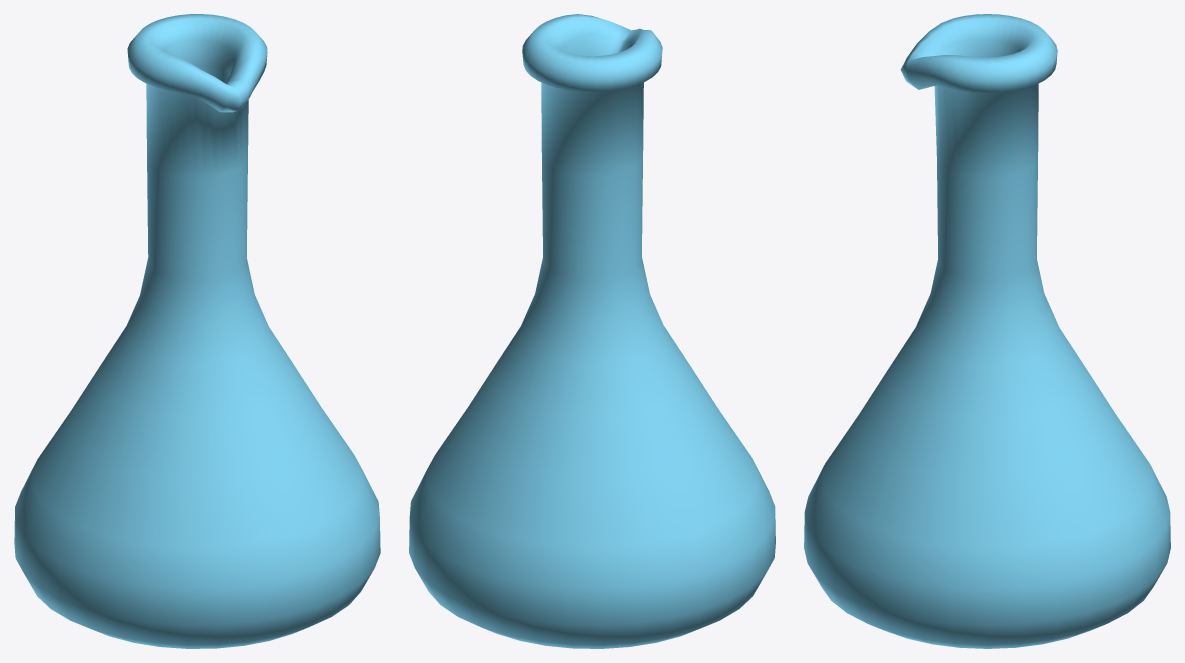
The model's file is Flask, Erlenmeyer, Long Neck, Spout.fbx.
3 renders of one model, left to right at view 1: azimuth 30°, elevation 25°; view 2: azimuth 150°, elevation 25°; view 3: azimuth 270°, elevation 25°, orthographic.
Visible parts, largest first — view 1: Flask, Erlenmeyer, Long Neck, Spout; view 2: Flask, Erlenmeyer, Long Neck, Spout; view 3: Flask, Erlenmeyer, Long Neck, Spout.
Part boxes in pixels (x1=…): Flask, Erlenmeyer, Long Neck, Spout: x1=14, y1=14, x2=380, y2=648; Flask, Erlenmeyer, Long Neck, Spout: x1=409, y1=14, x2=775, y2=648; Flask, Erlenmeyer, Long Neck, Spout: x1=804, y1=14, x2=1170, y2=648.
Bounding box in the file's own units: 0.5726 × 0.9625 × 0.5726.
